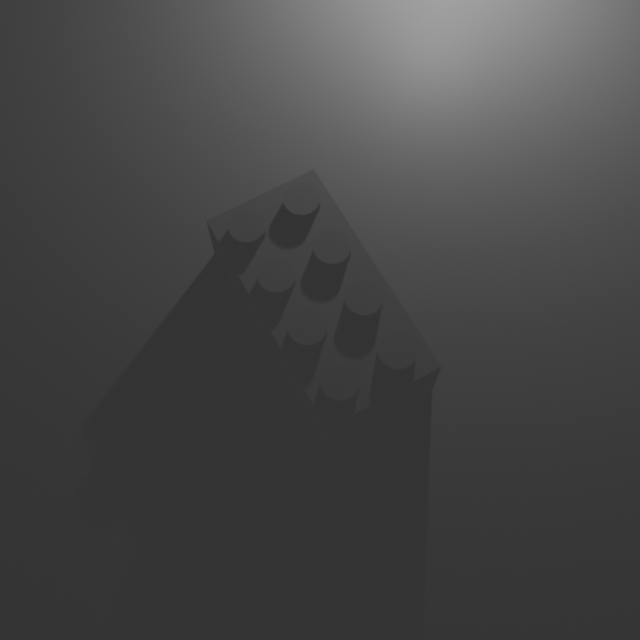lego_2x4: (205, 163, 443, 449)
